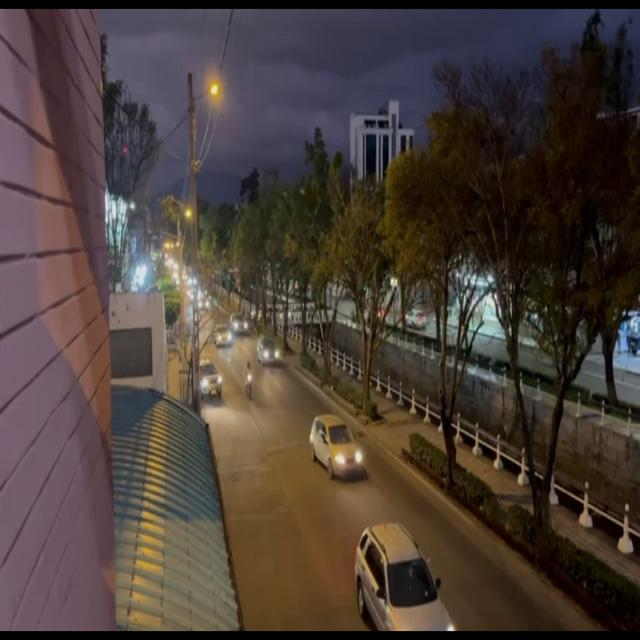MOTORCYCLE: (244, 356, 251, 404)
SED: (310, 413, 366, 480)
SUV: (355, 522, 448, 628)
